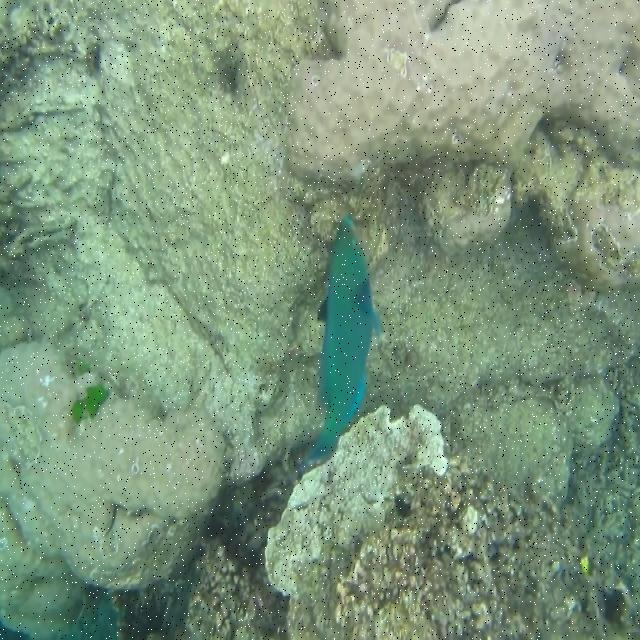fish: (303, 212, 381, 471)
reefs: (287, 1, 638, 290), (266, 404, 638, 638), (1, 340, 227, 638)
